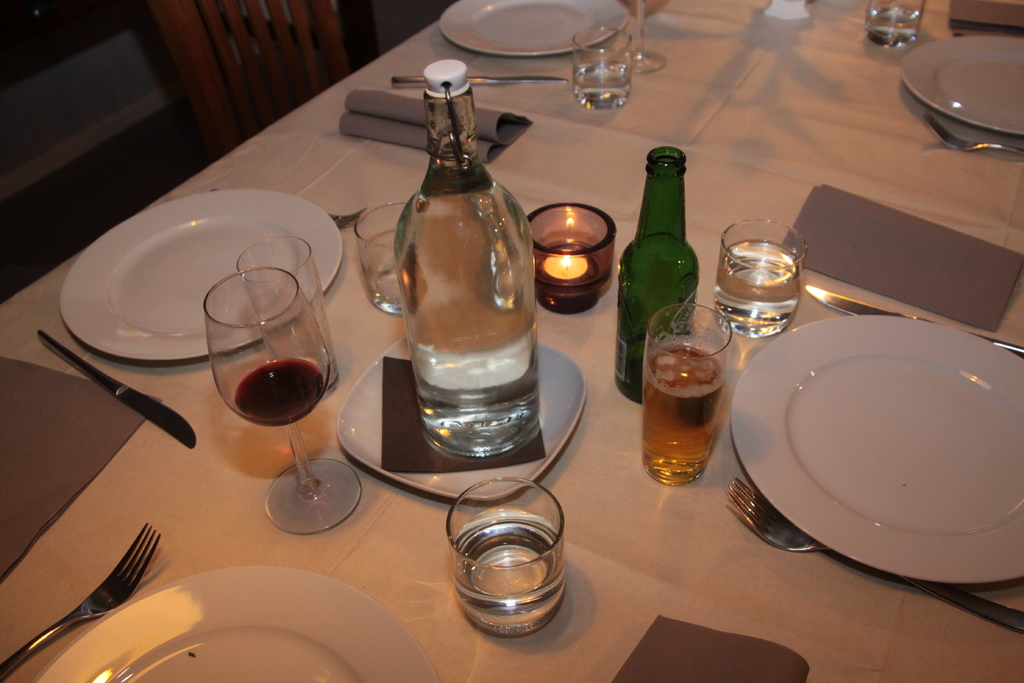plate: (37, 565, 449, 682)
